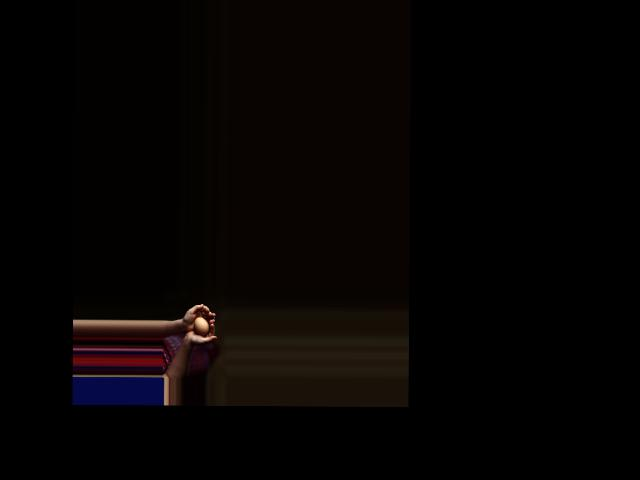egg: (194, 317, 209, 335)
